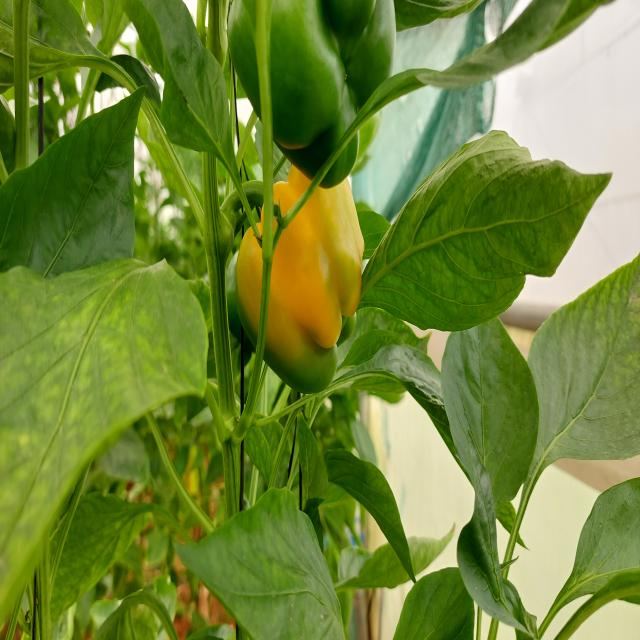Green--Not-ready-to-harvest: (238, 0, 407, 162)
GreenishYellow--Can-be-Harvested: (242, 160, 372, 381)
